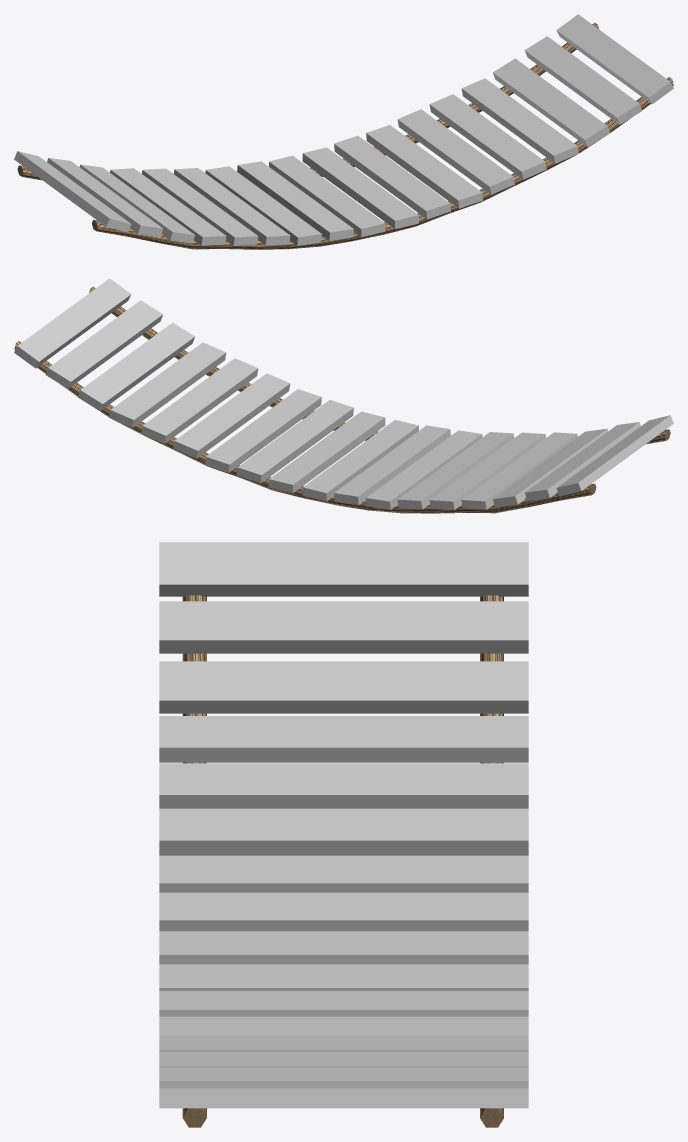
File: ropeBridge.FBX
3 renders of one model, top to bottom at view 1: azimuth 30°, elevation 25°; view 2: azimuth 150°, elevation 25°; view 3: azimuth 270°, elevation 25°, orthographic. The views are drawn at different scales.
Visible parts, largest first — view 1: Plank009, Plank008, Plank007, Plank004, Plank005, Plank006, Plank002, Plank003, Plank001, Plank010, Plank011, UnderRope01 (+8 smaller); view 2: Plank009, Plank007, Plank008, Plank005, Plank004, Plank006, Plank002, Plank003, Plank001, Plank010, Plank011, UnderRope002 (+8 smaller); view 3: Plank018, Plank016, Plank017, Plank013, Plank015, Plank014, Plank011, Plank012, Plank010, Plank001, Plank002, Plank003 (+8 smaller).
Part boxes in pixels (x1,y1,x2,y2): Plank009: (556,14,673,104); Plank008: (524,36,642,124); Plank007: (493,58,609,146); Plank004: (397,109,514,194); Plank005: (429,94,546,179); Plank006: (461,78,578,163); Plank002: (334,135,450,219); Plank003: (366,125,482,208); Plank001: (302,147,418,228); Plank010: (269,155,385,237); Plank011: (237,161,353,240); UnderRope01: (92,77,673,249); Plank009: (14,278,131,368); Plank007: (78,322,195,410); Plank008: (45,300,162,388); Plank005: (141,358,258,443); Plank004: (173,373,290,458); Plank006: (109,342,226,427); Plank002: (237,400,353,483); Plank003: (205,389,321,472); Plank001: (269,411,385,493); Plank010: (302,420,418,501); Plank011: (334,425,450,504); UnderRope002: (14,341,596,513); Plank018: (159,542,528,596); Plank016: (159,661,528,713); Plank017: (159,601,528,653); Plank013: (159,808,528,855); Plank015: (159,716,528,762); Plank014: (159,763,528,808); Plank011: (159,892,528,931); Plank012: (159,855,528,892); Plank010: (159,931,528,964); Plank001: (159,964,528,990); Plank002: (159,991,528,1016); Plank003: (159,1016,528,1035).
Size of the model in its own units: 142 by 21.19 by 39.37.
